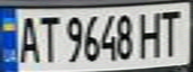4: (100, 11, 121, 61)
6: (81, 11, 103, 63)
8: (115, 10, 139, 61)
9: (60, 11, 84, 63)
A: (12, 12, 42, 64)
H: (136, 8, 166, 59)
T: (154, 6, 187, 57), (33, 11, 60, 64)
